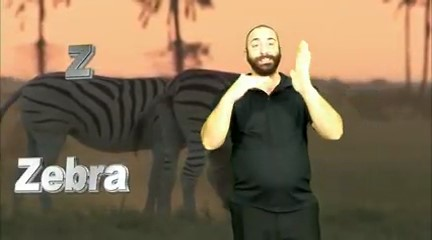Z: (227, 38, 330, 105)
